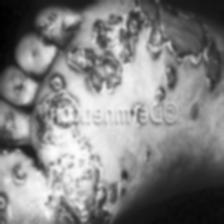Non-Cancerous Skin Condition: (68, 0, 150, 90), (50, 124, 112, 224), (151, 15, 205, 63), (40, 74, 80, 107), (0, 113, 16, 141), (5, 72, 25, 94), (39, 14, 55, 38), (165, 67, 177, 87), (14, 164, 26, 181), (156, 92, 165, 104)
